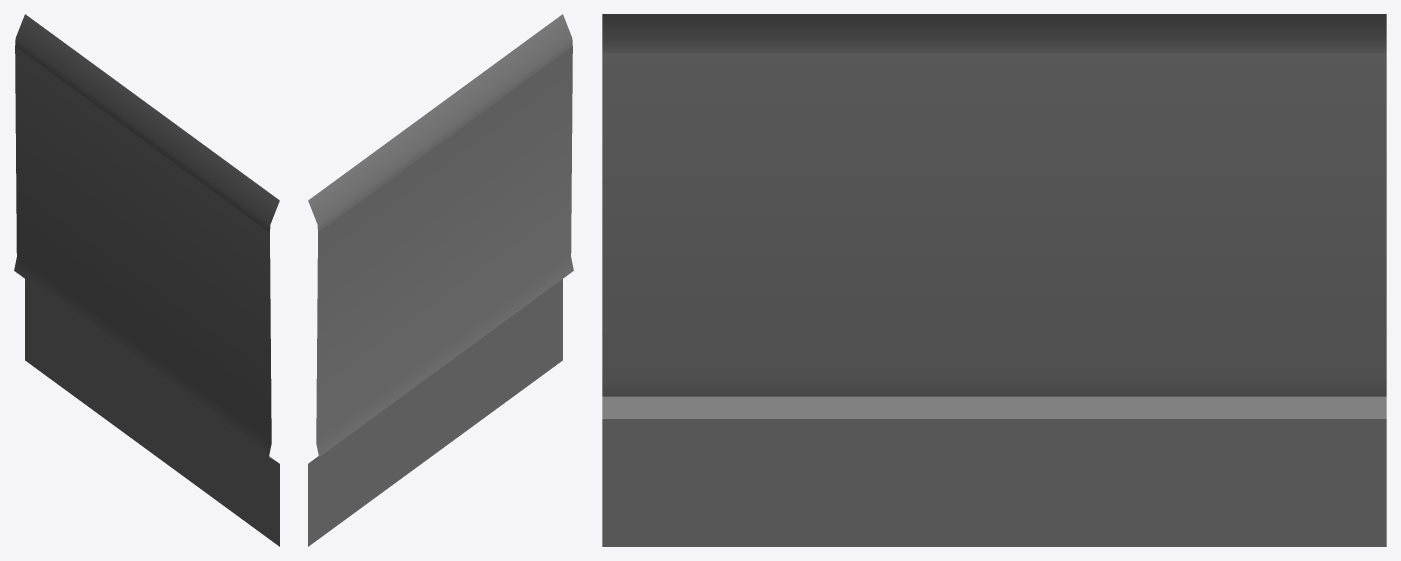
The model's file is q-scifi-mod-wallastra-straight-flat.glb.
3 renders of one model, left to right at view 1: azimuth 30°, elevation 25°; view 2: azimuth 150°, elevation 25°; view 3: azimuth 270°, elevation 25°, orthographic. The views are drawn at different scales.
Parts seen in each view (by area): view 1: WallAstra_Straight_Flat; view 2: WallAstra_Straight_Flat; view 3: WallAstra_Straight_Flat.
Part boxes in pixels (x1,y1,x2,y2): WallAstra_Straight_Flat: (14, 14, 279, 546); WallAstra_Straight_Flat: (308, 14, 573, 546); WallAstra_Straight_Flat: (602, 14, 1386, 546).
Size of the model in its own units: 0.1 by 3 by 4.
Materials: 3 (3 with a texture image).
